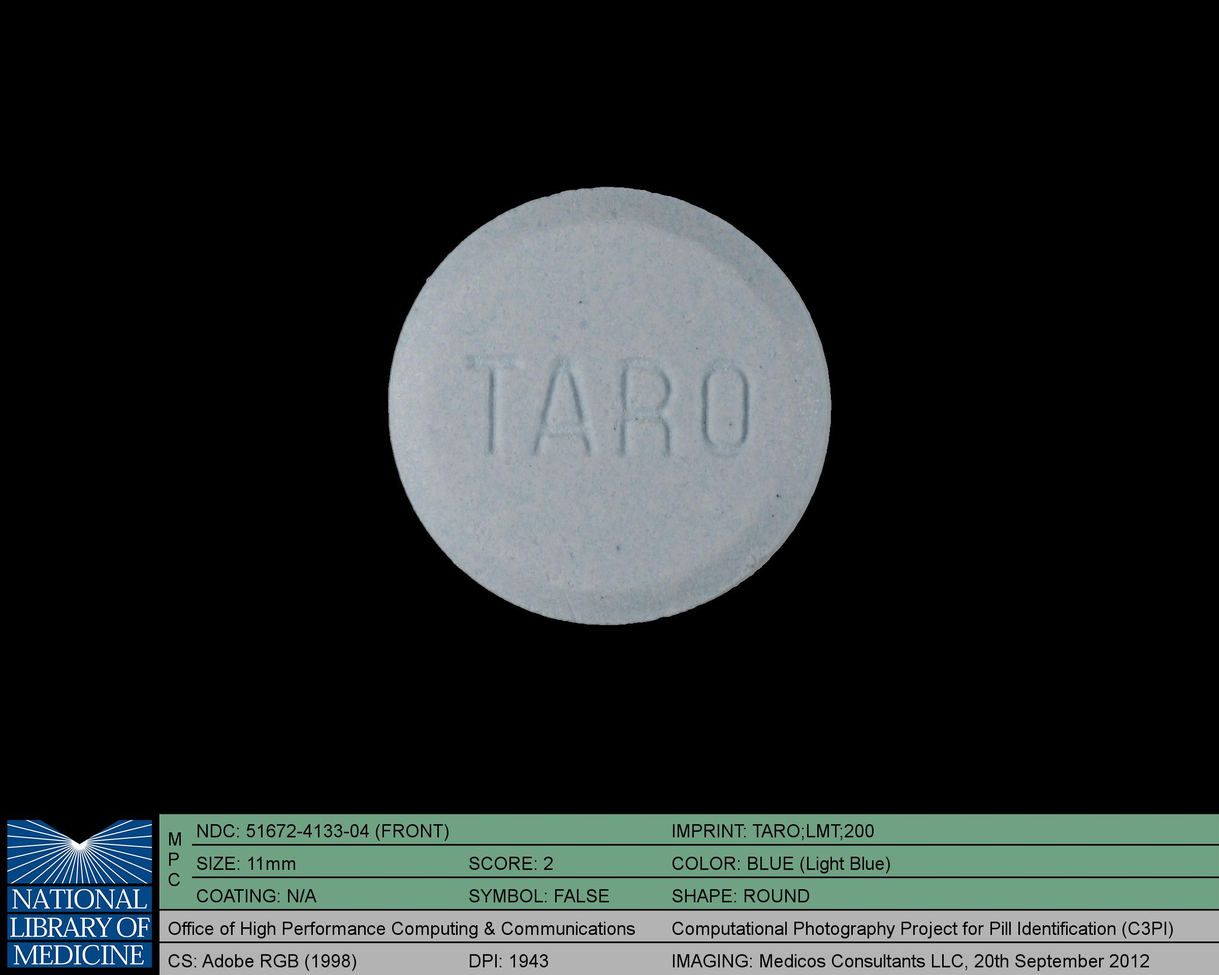Pill: (376, 176, 845, 635)
